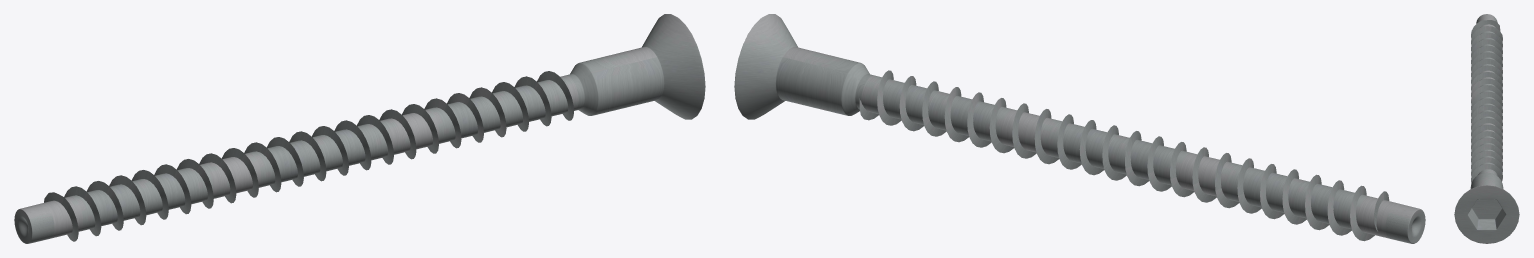
3 views of the same model, side by side, from view 1: azimuth 30°, elevation 25°; view 2: azimuth 150°, elevation 25°; view 3: azimuth 270°, elevation 25° (orthographic). The views are drawn at different scales.
Parts seen in each view (by area): view 1: polySurface3; view 2: polySurface3; view 3: polySurface3.
Boxes of the visible parts, box(x1,y1,x2,y2) form: polySurface3: box(14, 14, 705, 243); polySurface3: box(734, 14, 1425, 243); polySurface3: box(1454, 14, 1519, 243).
Size of the model in its own units: 69.99 by 10.03 by 10.09.
1 material, 1 textured.
